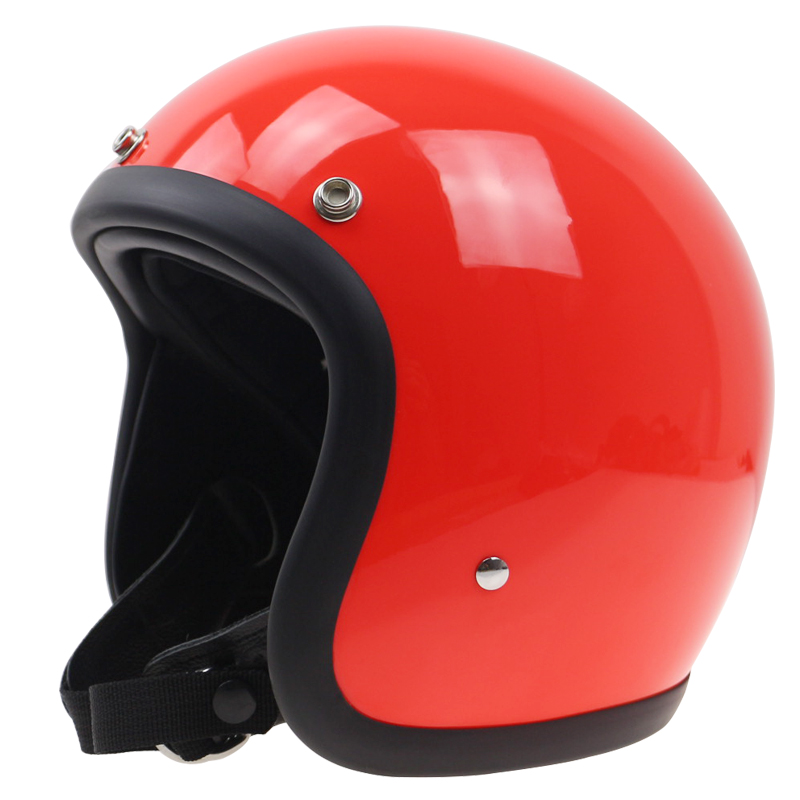with_helmet: (76, 23, 781, 773)
